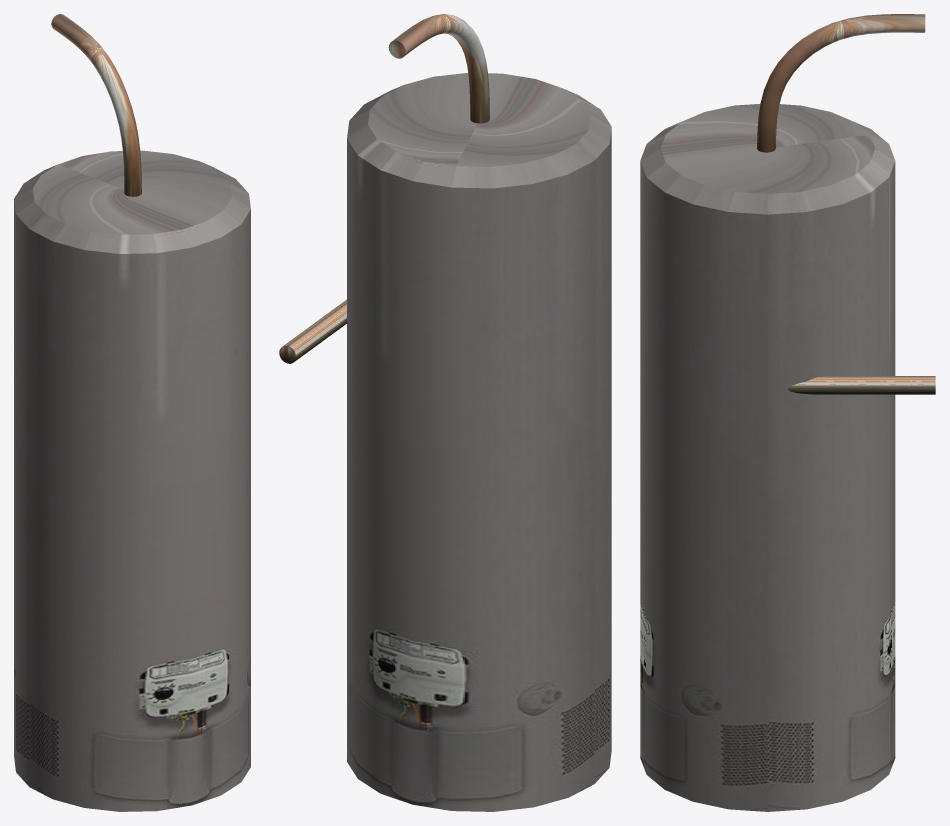
File: water_heater_model.fbx
The picture shows the model from 3 angles, left to right: view 1: azimuth 30°, elevation 25°; view 2: azimuth 150°, elevation 25°; view 3: azimuth 270°, elevation 25°; orthographic projection. The views are drawn at different scales.
Visible parts, largest first — view 1: pCylinder4; view 2: pCylinder4; view 3: pCylinder4.
Part boxes in pixels (bbox=[...]): pCylinder4: bbox=[14, 14, 250, 811]; pCylinder4: bbox=[279, 14, 611, 811]; pCylinder4: bbox=[640, 14, 935, 811].
Bounding box in the file's own units: 0.0989 × 0.3181 × 0.1146.
